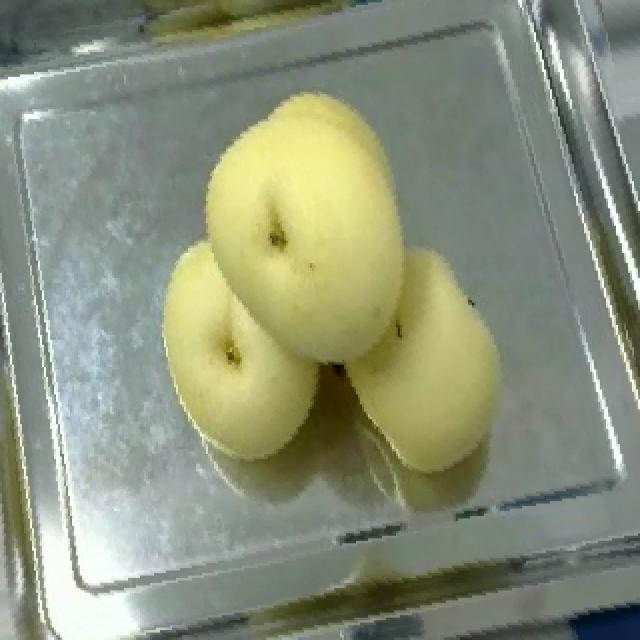Fruit: (162, 67, 440, 384), (320, 213, 532, 496), (144, 236, 332, 476)
